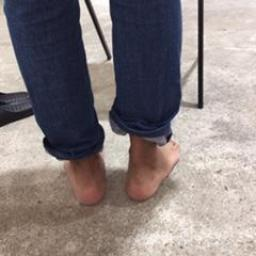Back View -Both Feet-: (37, 129, 187, 212)
